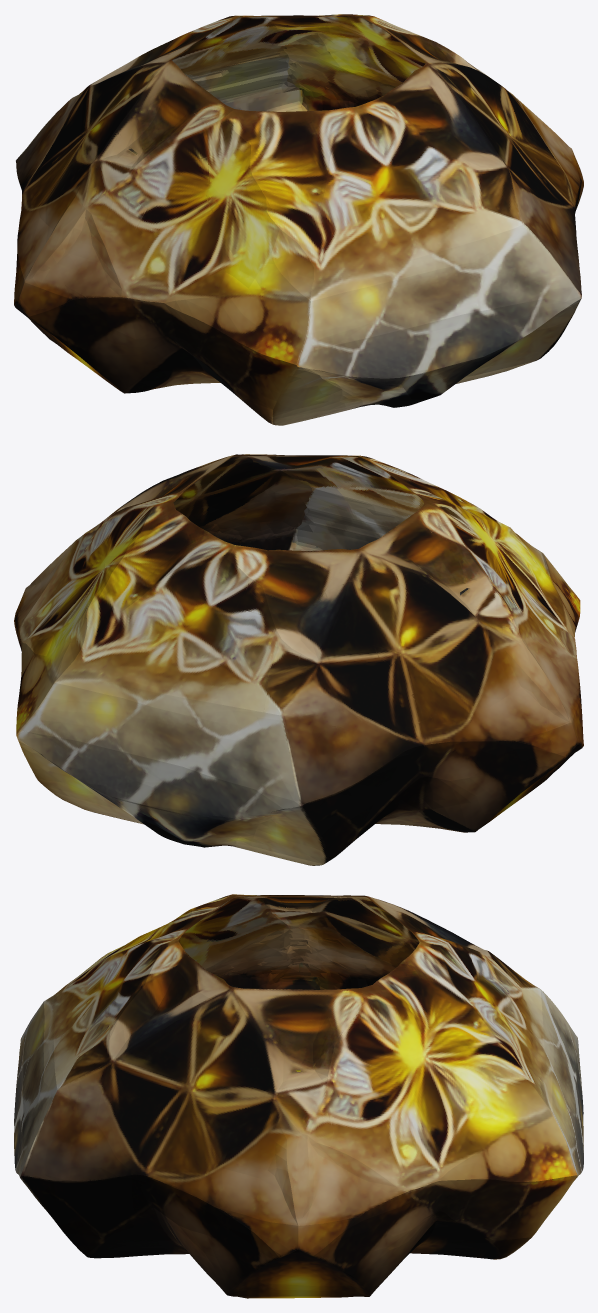
Rendered from stone-paperweight-art-deco.jpeg.glb.
3 views of the same model, one above another, from view 1: azimuth 30°, elevation 25°; view 2: azimuth 150°, elevation 25°; view 3: azimuth 270°, elevation 25° (orthographic).
Parts seen in each view (by area): view 1: world; view 2: world; view 3: world.
Boxes of the visible parts, x1,y1,x2,y2 form: world: [14, 14, 583, 425]; world: [14, 454, 583, 865]; world: [14, 894, 583, 1298].
Bounding box in the file's own units: 1 × 0.4565 × 0.8882.
Materials: 1 (1 with a texture image).
